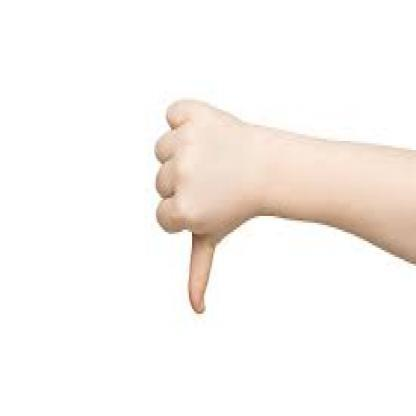thumb_down: (152, 95, 252, 317)
